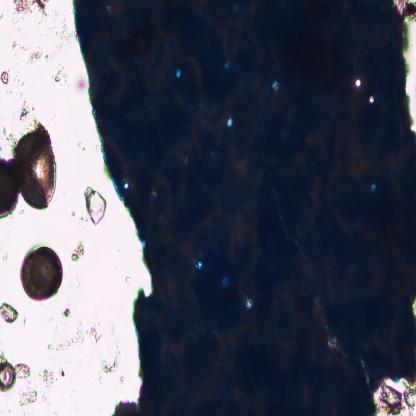Background material: (39, 319, 101, 352), (376, 377, 416, 416), (98, 323, 125, 377), (83, 185, 111, 226), (0, 295, 25, 328), (52, 16, 76, 50), (9, 0, 50, 19), (13, 385, 44, 409), (34, 367, 58, 391), (14, 96, 34, 122), (16, 358, 33, 386), (52, 66, 70, 86), (27, 48, 51, 62), (0, 132, 16, 152), (0, 67, 12, 86), (72, 244, 86, 259), (77, 75, 88, 90), (7, 38, 23, 48), (63, 308, 73, 322), (125, 275, 136, 287), (69, 208, 76, 217), (0, 16, 4, 21), (22, 81, 26, 85)
Diatom: (12, 123, 60, 209), (18, 244, 67, 298), (0, 161, 23, 221), (0, 361, 16, 393)
Fragment: (73, 0, 416, 416)
